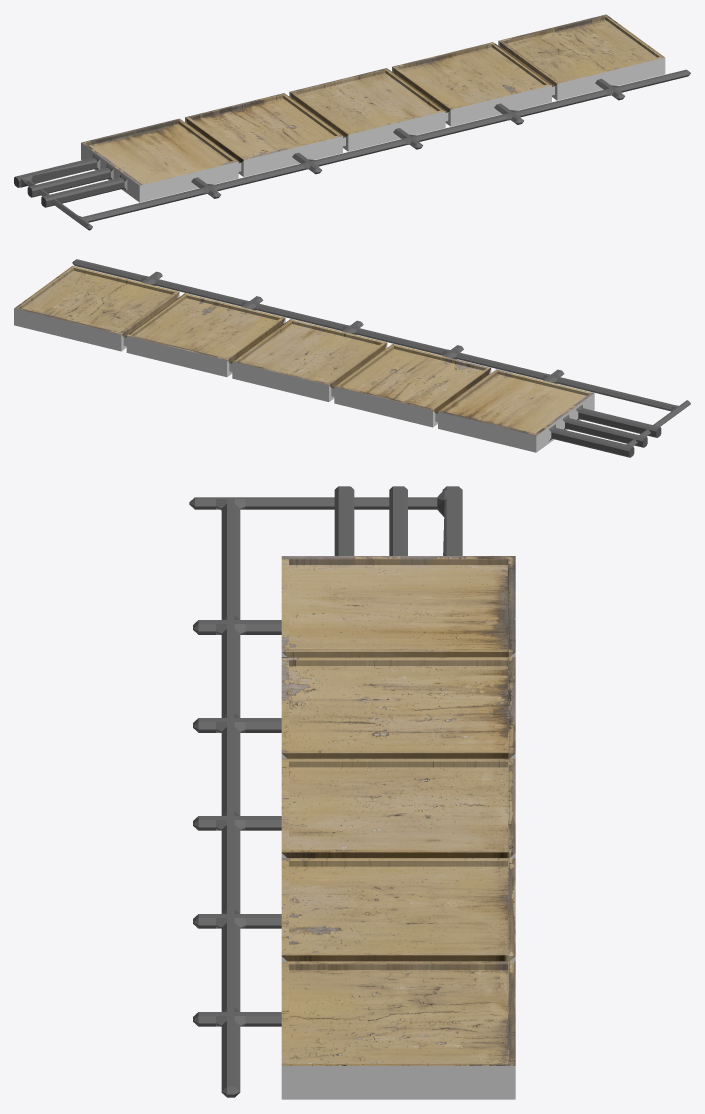
The model's file is StoreSign.fbx.
3 views of the same model, one above another, from view 1: azimuth 30°, elevation 25°; view 2: azimuth 150°, elevation 25°; view 3: azimuth 270°, elevation 25° (orthographic). The views are drawn at different scales.
Visible parts, largest first — view 1: Object_71, Object_72, Object_73; view 2: Object_71, Object_72, Object_73; view 3: Object_71, Object_73, Object_72.
Part boxes in pixels (x1,y1,x2,y2): Object_71: (81, 14, 664, 185); Object_72: (81, 41, 665, 202); Object_73: (14, 69, 690, 230); Object_71: (14, 265, 594, 435); Object_72: (14, 293, 594, 452); Object_73: (72, 259, 690, 457); Object_71: (281, 556, 515, 1065); Object_73: (189, 486, 462, 1097); Object_72: (281, 652, 515, 1099).
Bounding box in the file's own units: 180 × 4.73 × 41.4.
